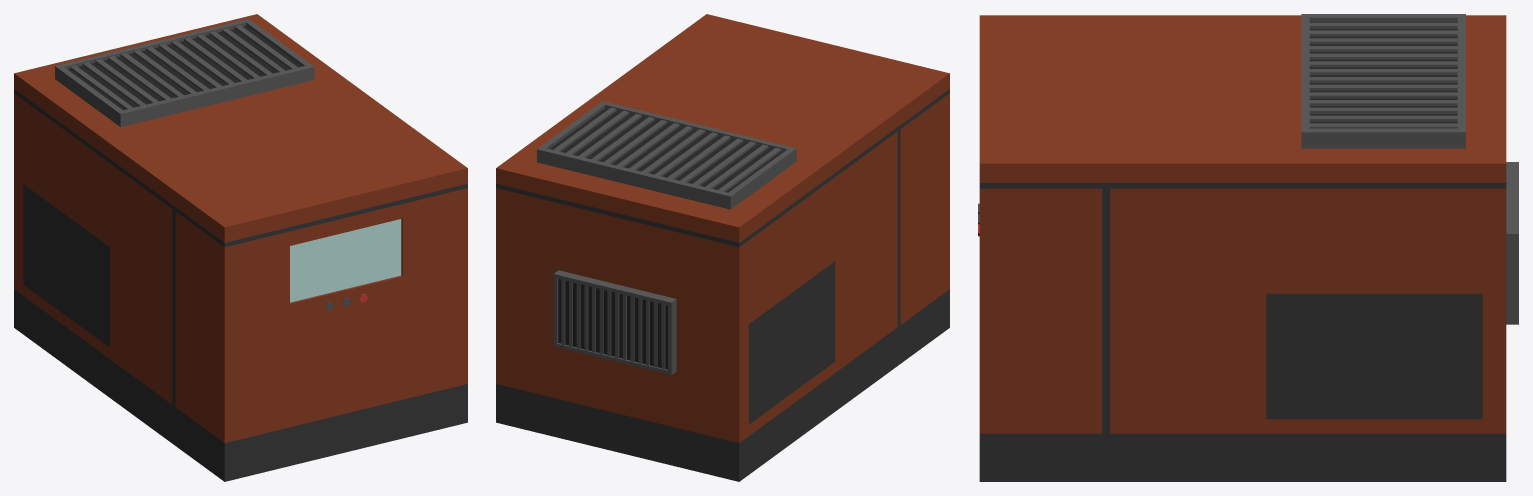
Rendered from SM_Props_Generator_01.glb.
The picture shows the model from 3 angles, left to right: view 1: azimuth 30°, elevation 25°; view 2: azimuth 150°, elevation 25°; view 3: azimuth 270°, elevation 25°; orthographic projection. The views are drawn at different scales.
Visible parts, largest first — view 1: SM_Props_Generator_01; view 2: SM_Props_Generator_01; view 3: SM_Props_Generator_01.
Boxes of the visible parts, x1,y1,x2,y2 form: SM_Props_Generator_01: (14, 14, 467, 481); SM_Props_Generator_01: (496, 14, 949, 481); SM_Props_Generator_01: (978, 14, 1518, 481).
Bounding box in the file's own units: 1.27 × 1.33 × 1.95.
Materials: 1 (1 with a texture image).
